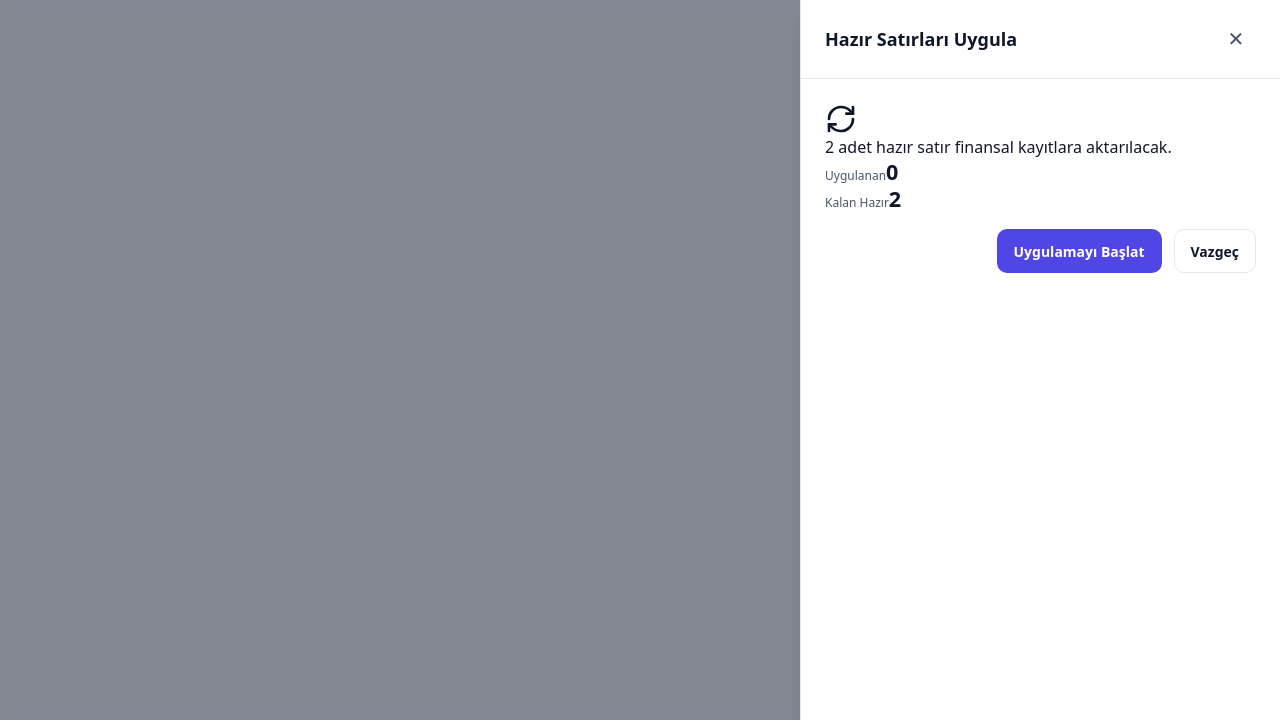
it: F9 — CSV Imports & Resolution Unit & Integration Suite › enters REVIEW_REQUIRED state on failed apply and disables/hides normal start button
The width and height of the screenshot is (1280, 720).
Click the button with test id "btn-start-apply" at [1079, 251], box x1=996 y1=229 x2=1162 y2=273
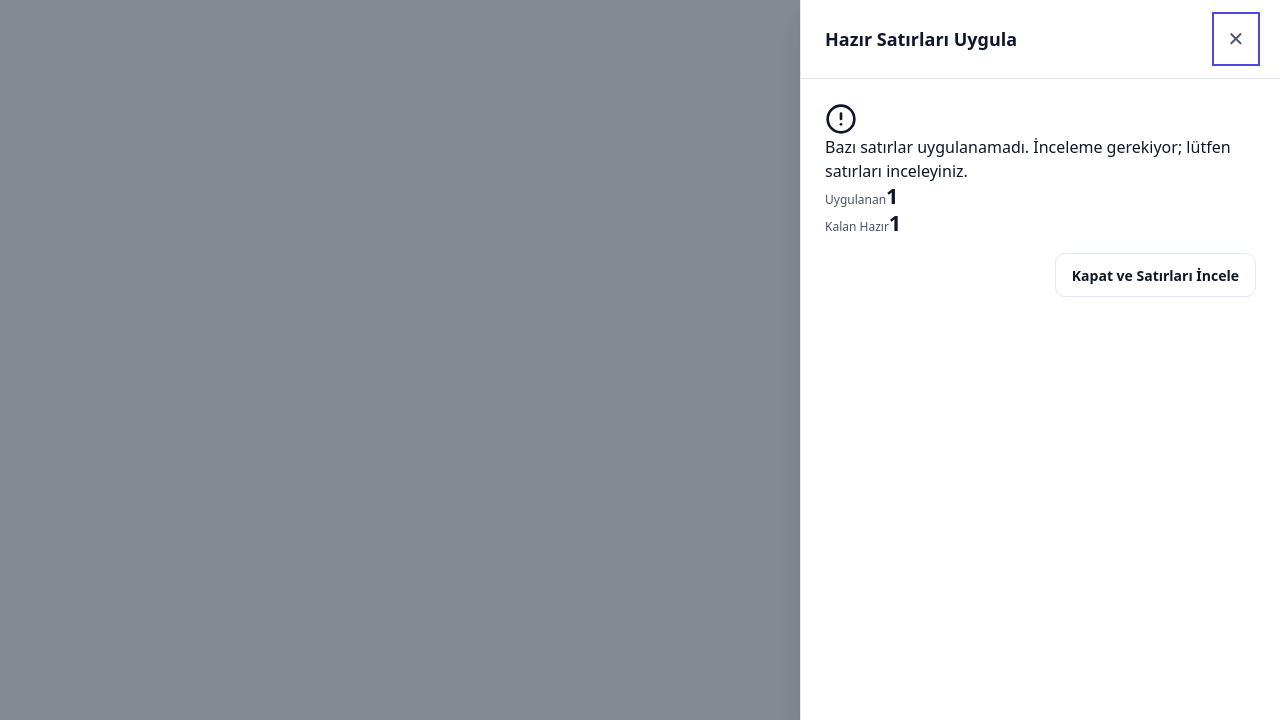
Now the text "Bazı satırlar uygulanamadı" is shown, box x1=825 y1=136 x2=1231 y2=182
Now the button with test id "btn-start-apply" is gone
Now the button with test id "btn-close-apply" reads "Kapat ve Satırları İncele", box x1=1055 y1=253 x2=1256 y2=297
